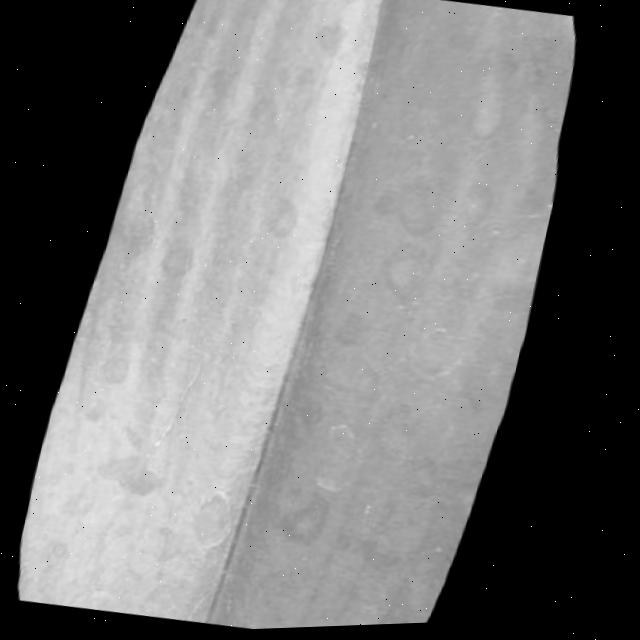mite: (272, 159, 461, 562), (71, 349, 197, 509), (94, 347, 145, 396), (125, 467, 170, 502), (102, 357, 137, 388), (369, 193, 401, 222)
spots: (10, 0, 592, 631)
